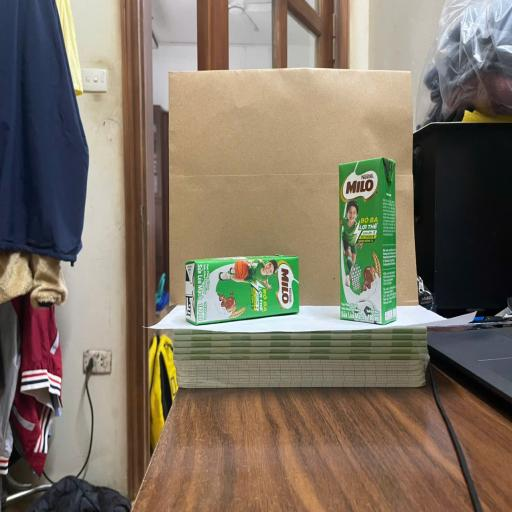milo: (338, 156, 397, 324), (184, 254, 300, 325)
